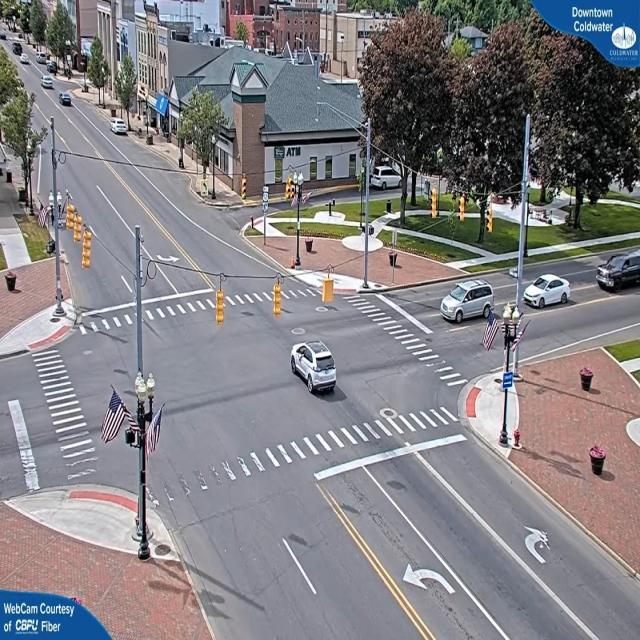car: (438, 278, 493, 326), (290, 342, 338, 396), (596, 250, 639, 294), (523, 272, 572, 308), (112, 119, 130, 136), (59, 92, 72, 106), (43, 78, 54, 90), (20, 54, 29, 63)
